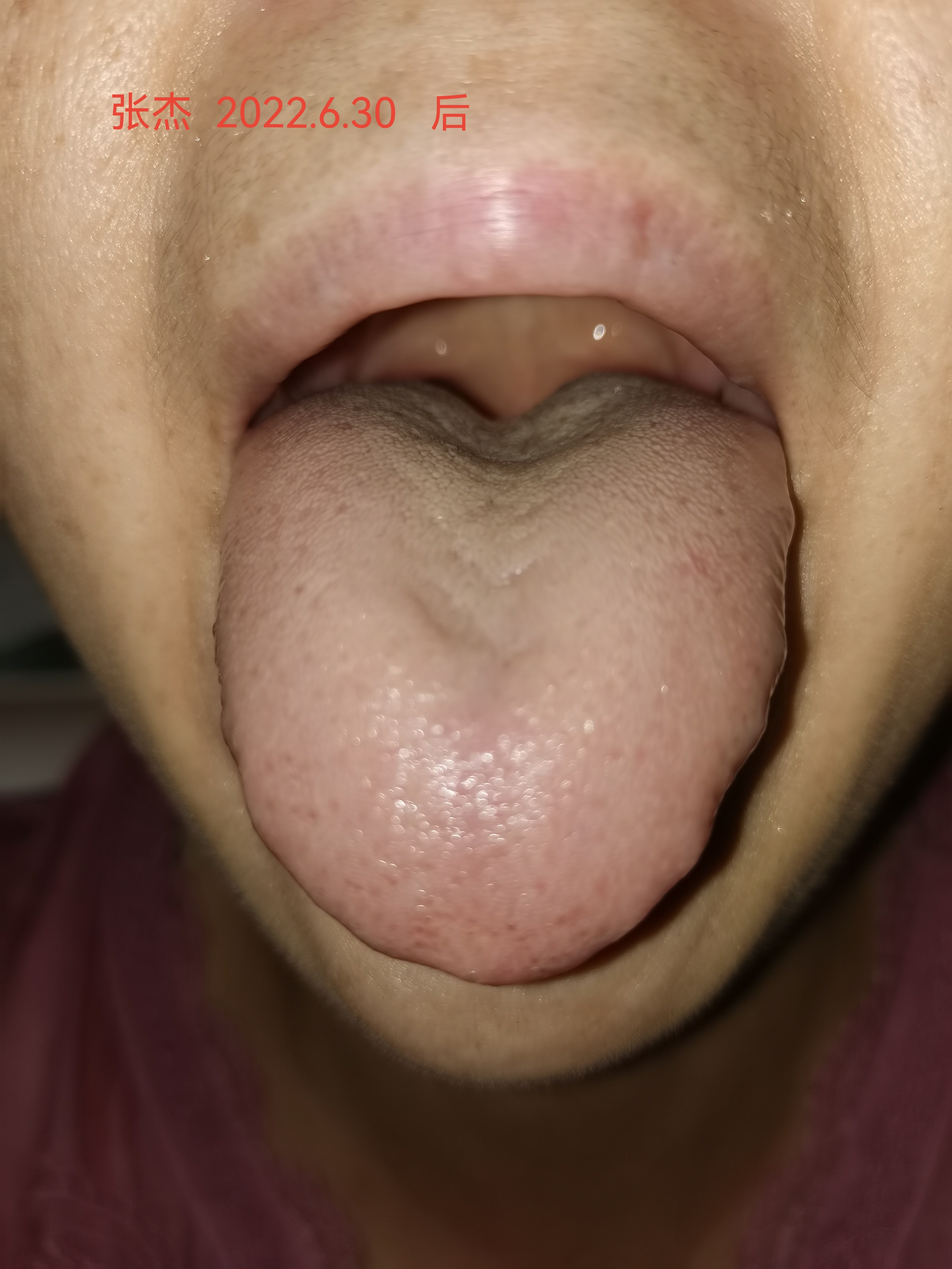baitaishe: (214, 372, 796, 983)
pangdashe: (215, 373, 797, 984)
shenquao: (375, 374, 672, 483)
